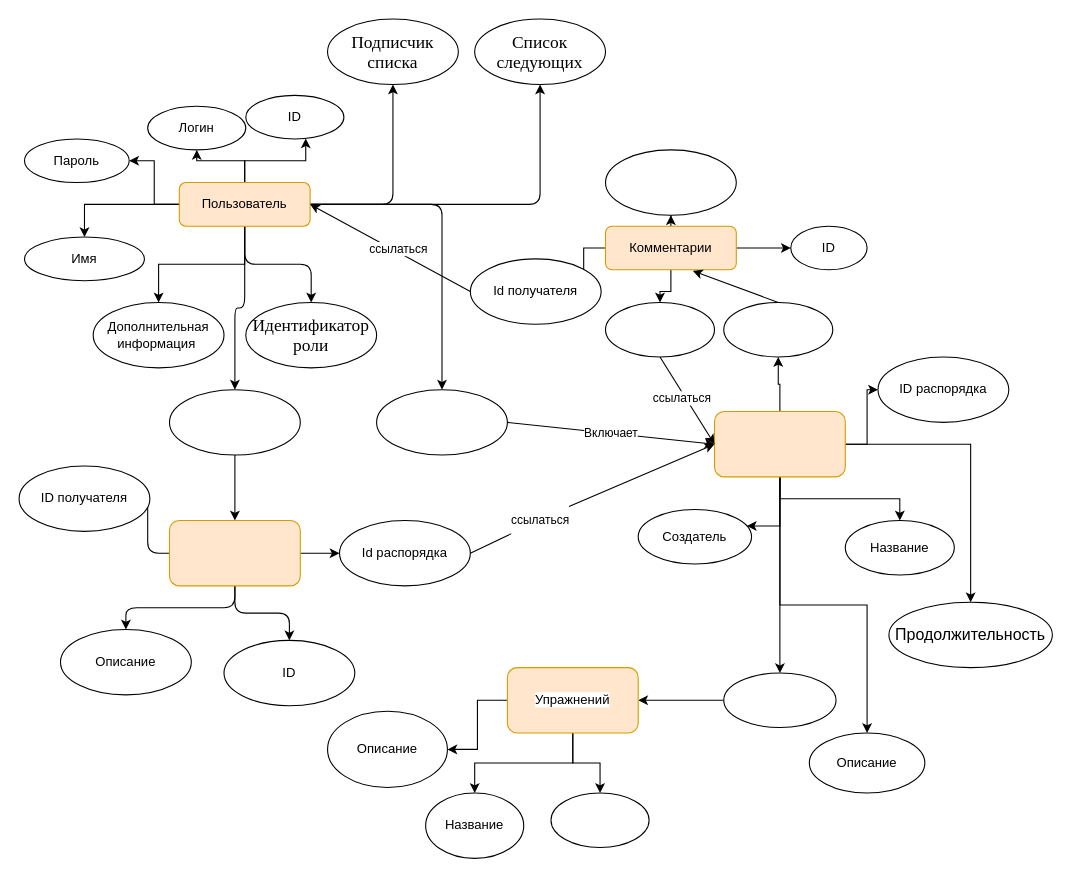
This 1071x877 diagram has some shape labels left out. The shapes that lost their labels are listed below. From the top down, each one's box as (x1, y1, x2, y2) in pixels, then its label:
(604, 149, 736, 215): Содержание
(604, 301, 714, 357): Id раяпорядка
(723, 301, 833, 357): Списк коментирий
(168, 389, 300, 455): Список уведомления
(376, 389, 507, 455): Список распорядык
(713, 410, 845, 477): Распорядок
(168, 519, 300, 586): Уведомления
(723, 672, 836, 728): Список упражнений
(550, 792, 649, 847): Оборудование
